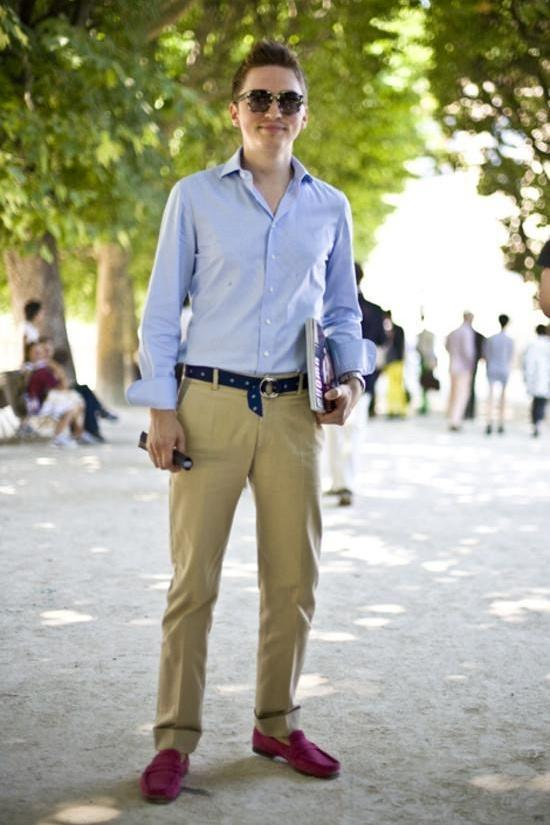pants: (152, 363, 323, 753)
shirt: (128, 144, 375, 412)
